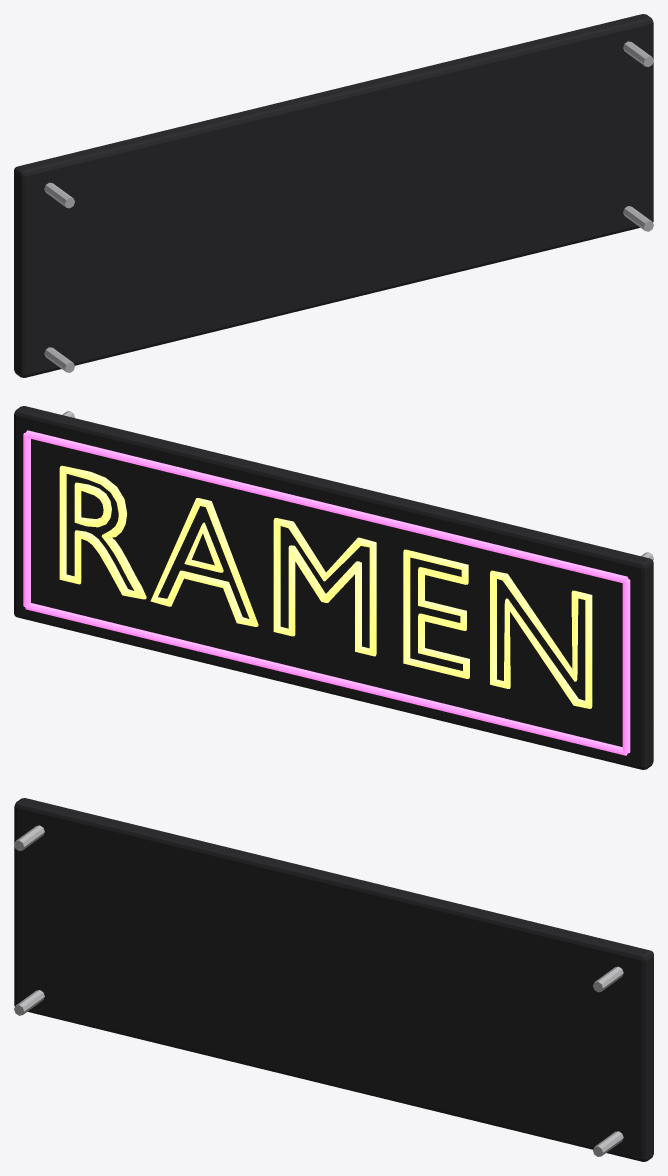
File: neon_sign_ramen.glb
The picture shows the model from 3 angles, top to bottom: view 1: azimuth 30°, elevation 25°; view 2: azimuth 150°, elevation 25°; view 3: azimuth 330°, elevation 25°; orthographic projection.
Parts seen in each view (by area): view 1: neon_sign_ramen; view 2: neon_sign_ramen; view 3: neon_sign_ramen.
Part boxes in pixels (<box>): neon_sign_ramen: <box>14,14,653,377</box>; neon_sign_ramen: <box>14,406,653,769</box>; neon_sign_ramen: <box>14,798,653,1161</box>.
Size of the model in its own units: 1.85 by 0.58 by 0.181.
